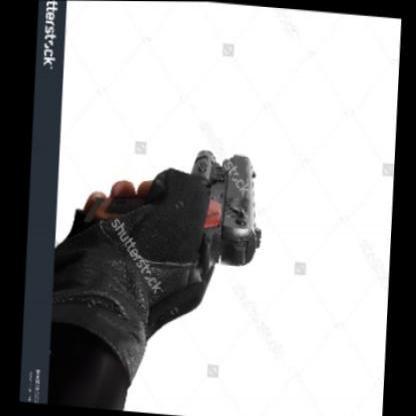pistol: (82, 136, 268, 271)
